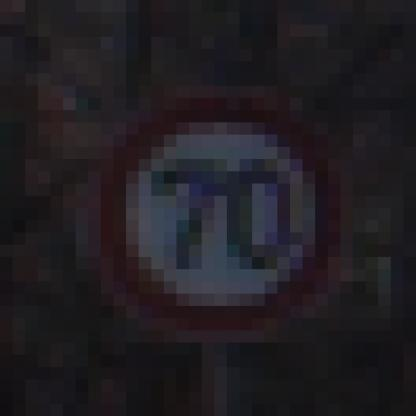Speed Limit 70: (104, 106, 335, 330)
